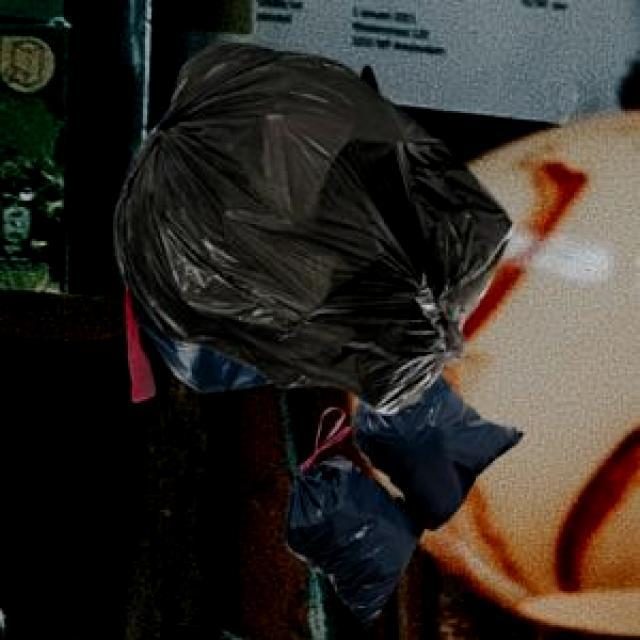Trashbag: (110, 41, 516, 409), (272, 468, 407, 610), (360, 376, 510, 501)
